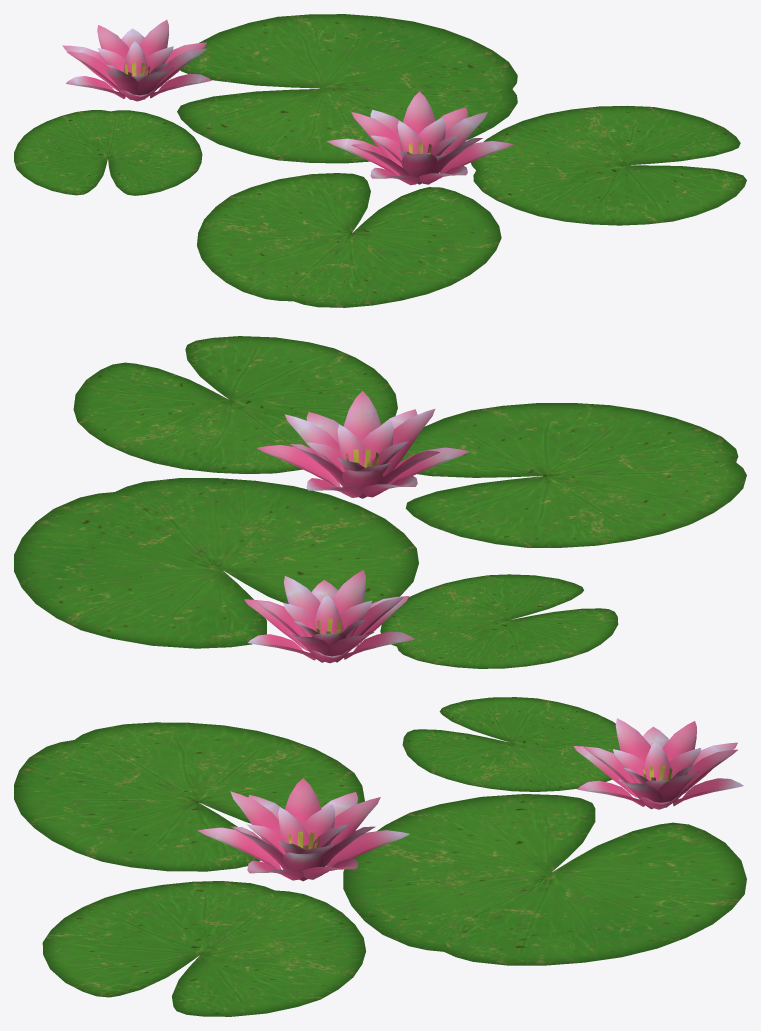
File: sb_obj_nature009_Aqplant01b.fbx
3 renders of one model, top to bottom at view 1: azimuth 30°, elevation 25°; view 2: azimuth 150°, elevation 25°; view 3: azimuth 270°, elevation 25°, orthographic. The views are drawn at different scales.
Visible parts, largest first — view 1: sb_obj_nature009_Aqplant01b, flower02, flower00; view 2: sb_obj_nature009_Aqplant01b, flower02, flower00; view 3: sb_obj_nature009_Aqplant01b, flower02, flower00.
Boxes of the visible parts, left/top/right/bottom form: sb_obj_nature009_Aqplant01b: left=14, top=14, right=746, bottom=307; flower02: left=327, top=91, right=513, bottom=185; flower00: left=62, top=20, right=211, bottom=101; sb_obj_nature009_Aqplant01b: left=14, top=336, right=746, bottom=668; flower02: left=257, top=391, right=469, bottom=498; flower00: left=244, top=570, right=414, bottom=663; sb_obj_nature009_Aqplant01b: left=14, top=697, right=746, bottom=1016; flower02: left=197, top=778, right=409, bottom=881; flower00: left=573, top=718, right=743, bottom=809.
Size of the model in its own units: 1.11 by 0.1139 by 1.08.
